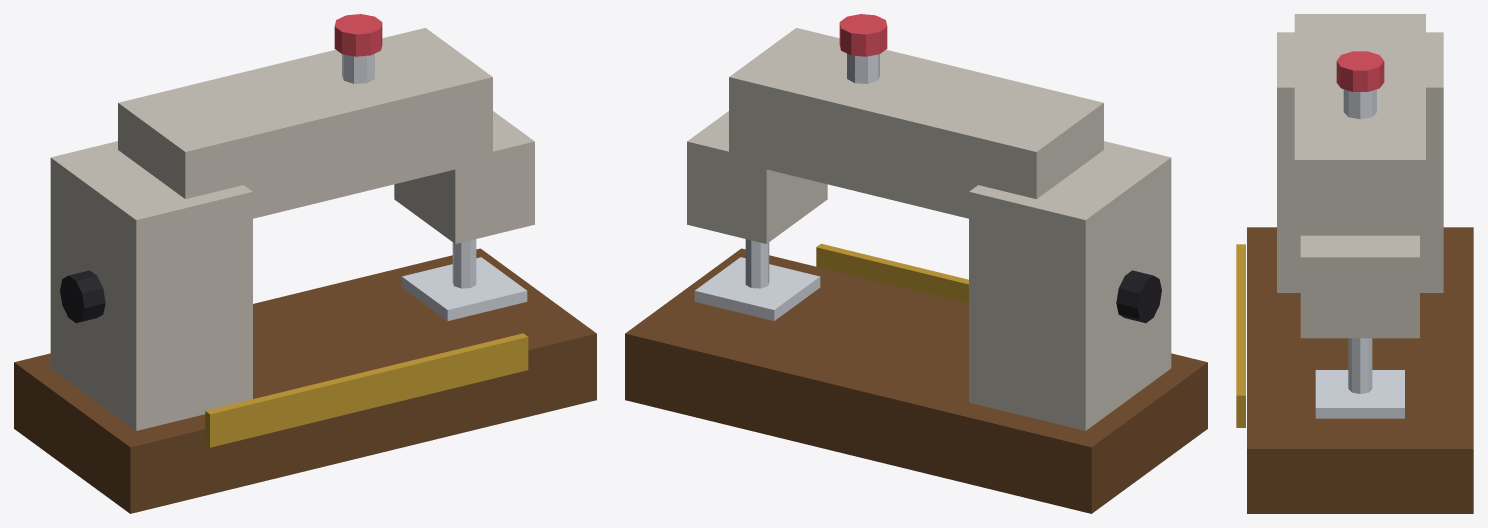
File: sewing_machine.glb
The picture shows the model from 3 angles, left to right: view 1: azimuth 30°, elevation 25°; view 2: azimuth 150°, elevation 25°; view 3: azimuth 270°, elevation 25°; orthographic projection. The views are drawn at different scales.
Parts seen in each view (by area): view 1: sewing_machine; view 2: sewing_machine; view 3: sewing_machine.
Part boxes in pixels (x1,y1,x2,y2): sewing_machine: (14, 14, 596, 513); sewing_machine: (625, 14, 1207, 513); sewing_machine: (1236, 14, 1473, 513).
Bounding box in the file's own units: 0.44 × 0.34 × 0.199.
